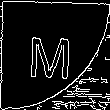M_N: (32, 29, 78, 81)
